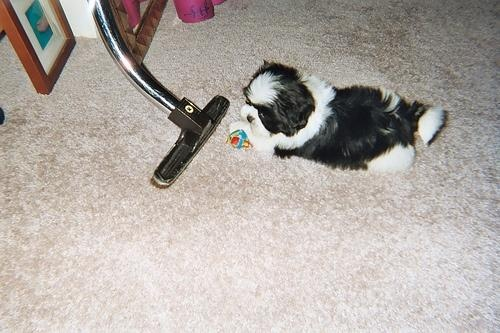dog: (230, 61, 447, 174)
